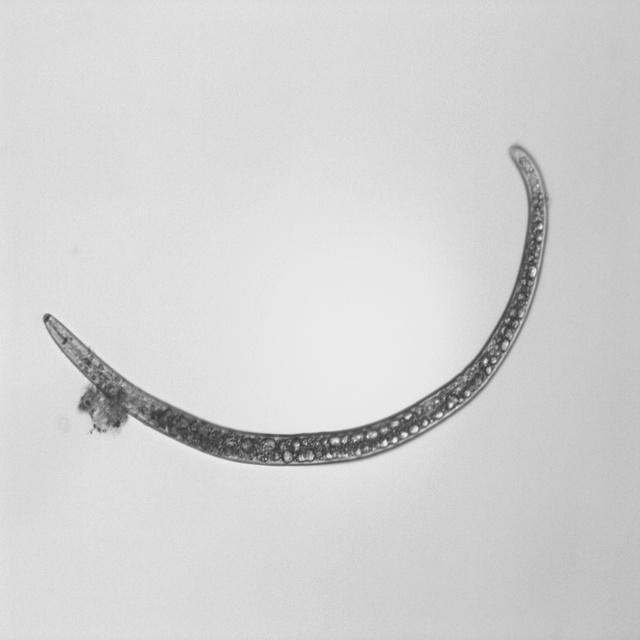Helicotylenchus: (36, 138, 554, 477)
